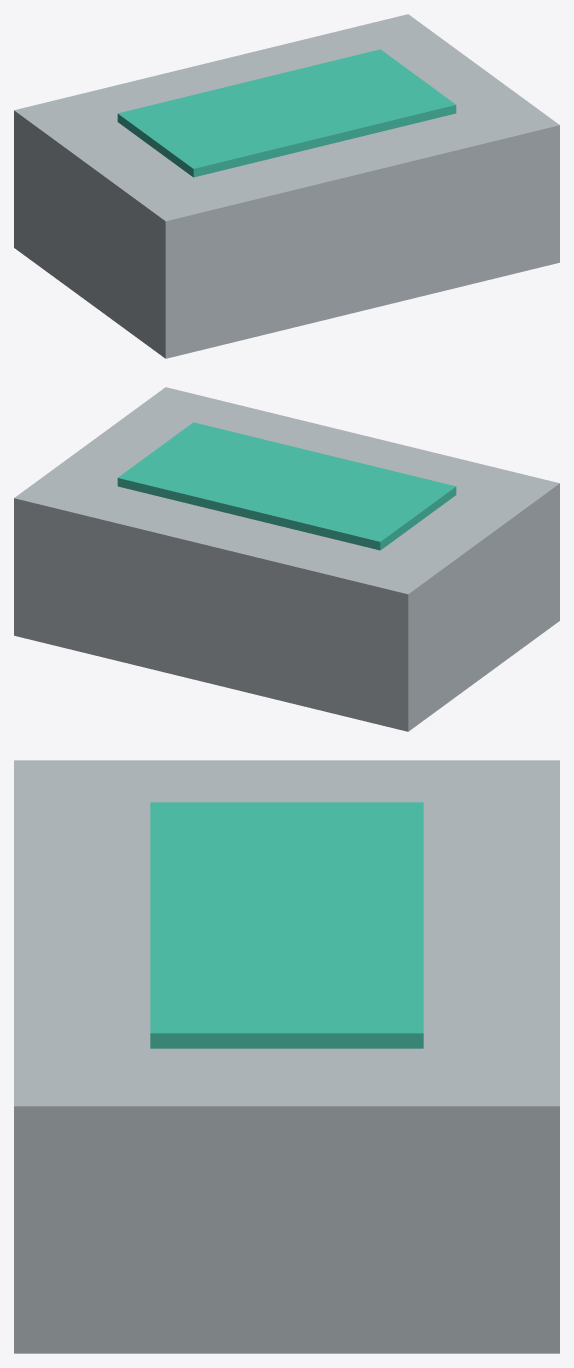
Rendered from dashboard.obj.
3 views of the same model, one above another, from view 1: azimuth 30°, elevation 25°; view 2: azimuth 150°, elevation 25°; view 3: azimuth 270°, elevation 25° (orthographic). The views are drawn at different scales.
Parts seen in each view (by area): view 1: dashboard; view 2: dashboard; view 3: dashboard.
Boxes of the visible parts, x1=… form: dashboard: x1=14, y1=14, x2=559, y2=358; dashboard: x1=14, y1=387, x2=559, y2=731; dashboard: x1=14, y1=760, x2=559, y2=1353.
Bounding box in the file's own units: 0.375 × 0.1328 × 0.25.
